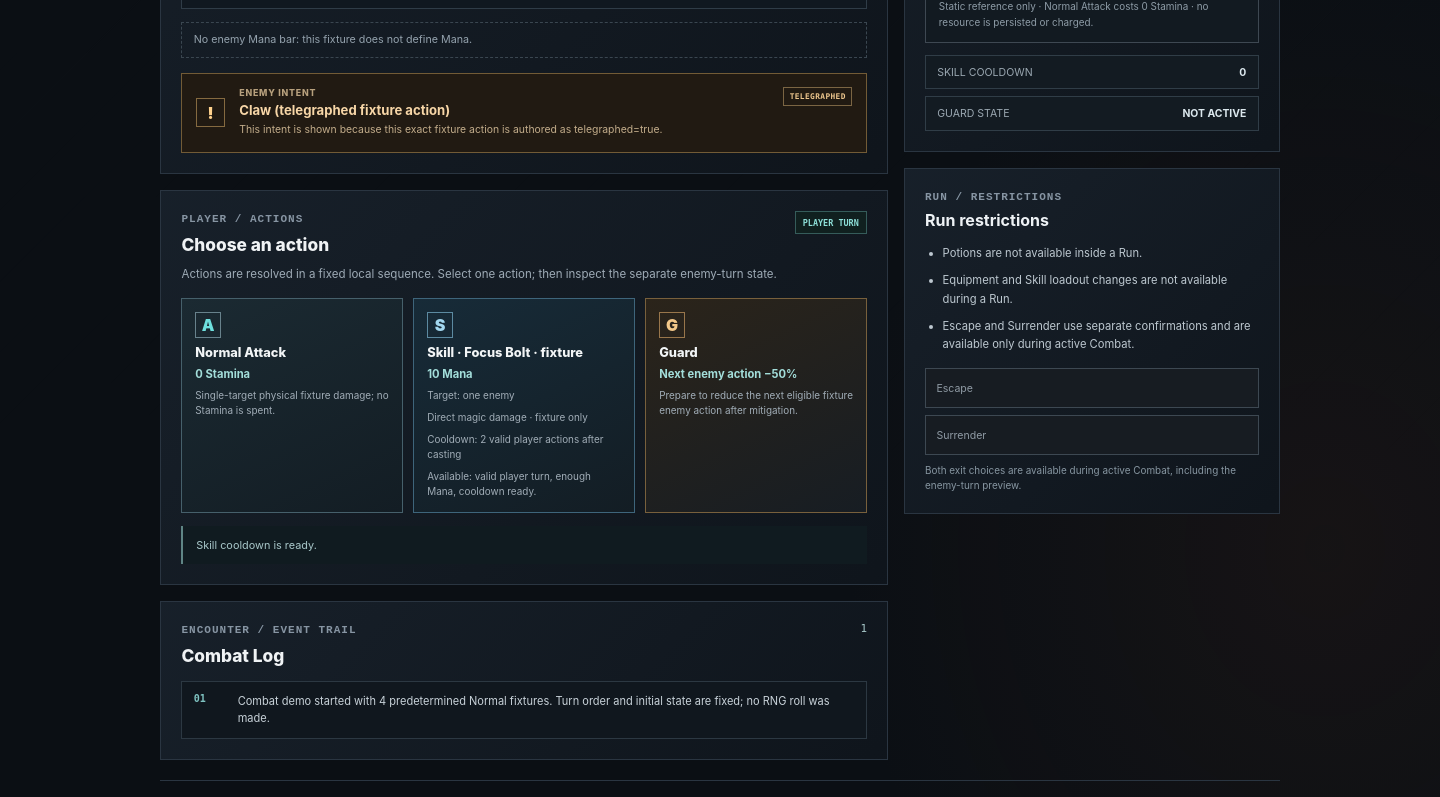
Test case: P1-UI-005 Combat interaction demo › runs Normal Attack and a separate enemy step without spending Stamina
(page scrolled)
Click the button with test id "combat-action-attack".
click(292, 406)  # box [182,298,403,513]
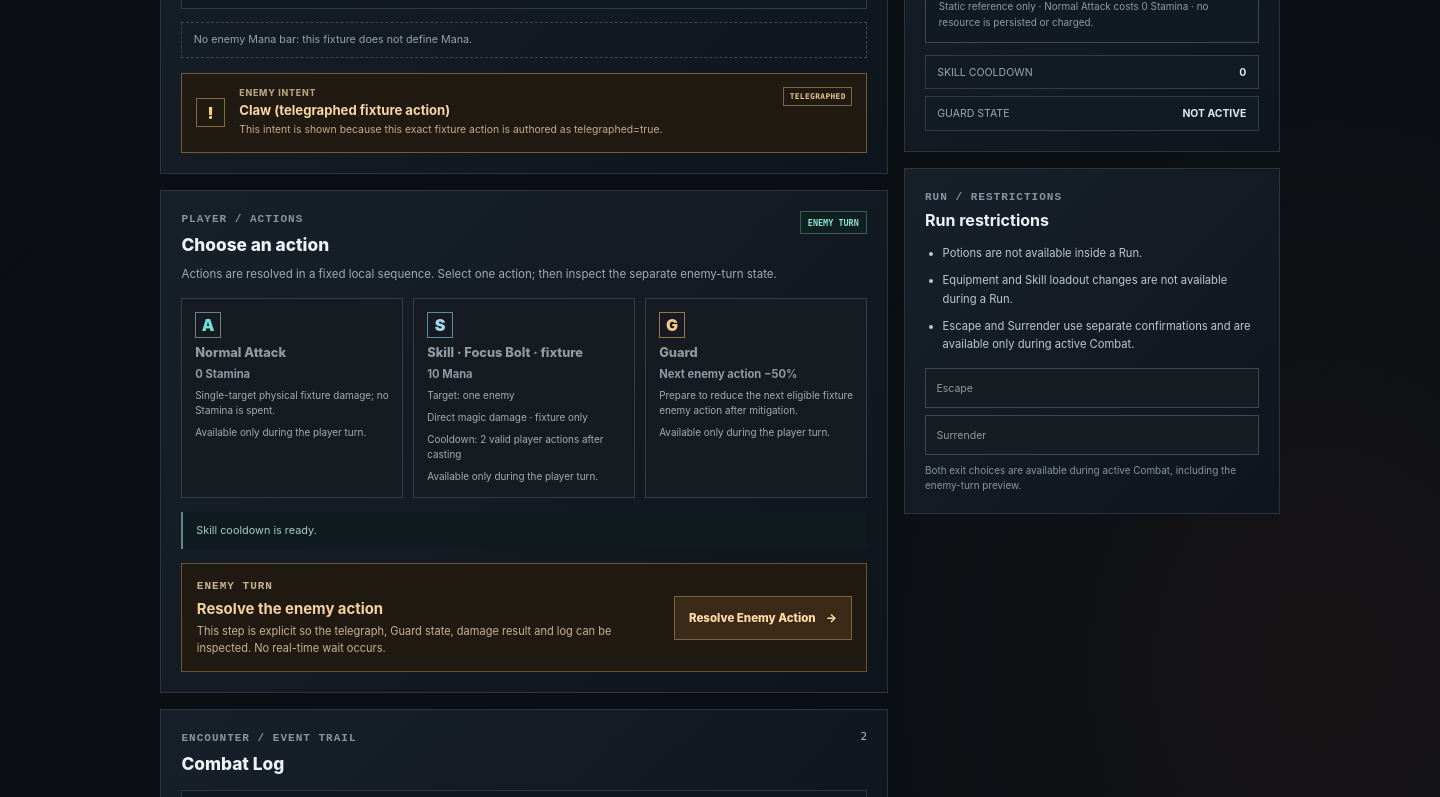
Expected: the button with test id "combat-action-attack" is disabled, [182,298,403,498]
Click the button with test id "combat-resolve-enemy".
click(763, 618)  # box [674,596,852,640]
(page scrolled)
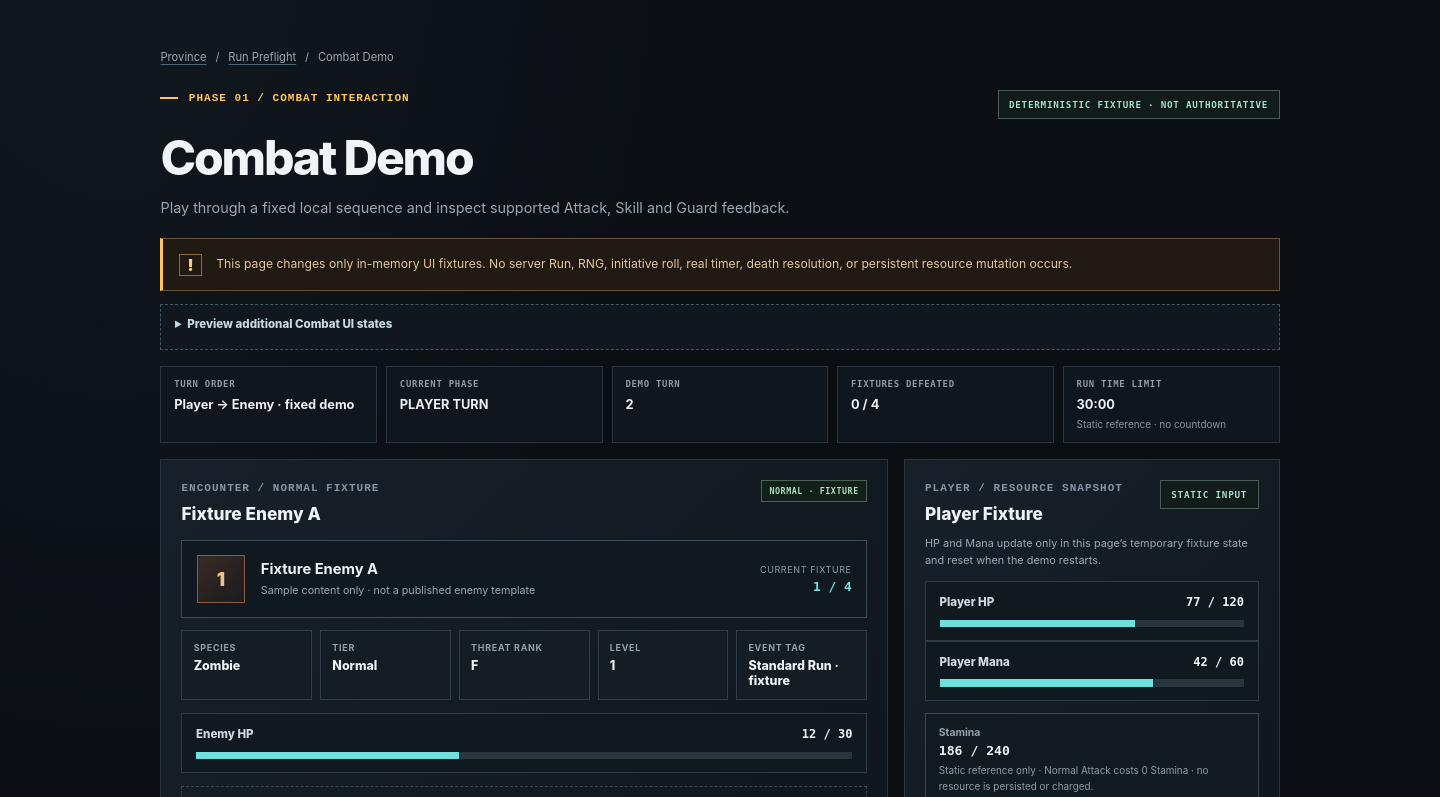
Expected: the progress indicator named "Player HP" holds "77", [940,620,1244,627]
Expected: the text with test id "combat-phase" reads "PLAYER TURN", [400,397,488,412]
Expected: the text with test id "combat-turn-number" reads "2", [625,397,634,412]
